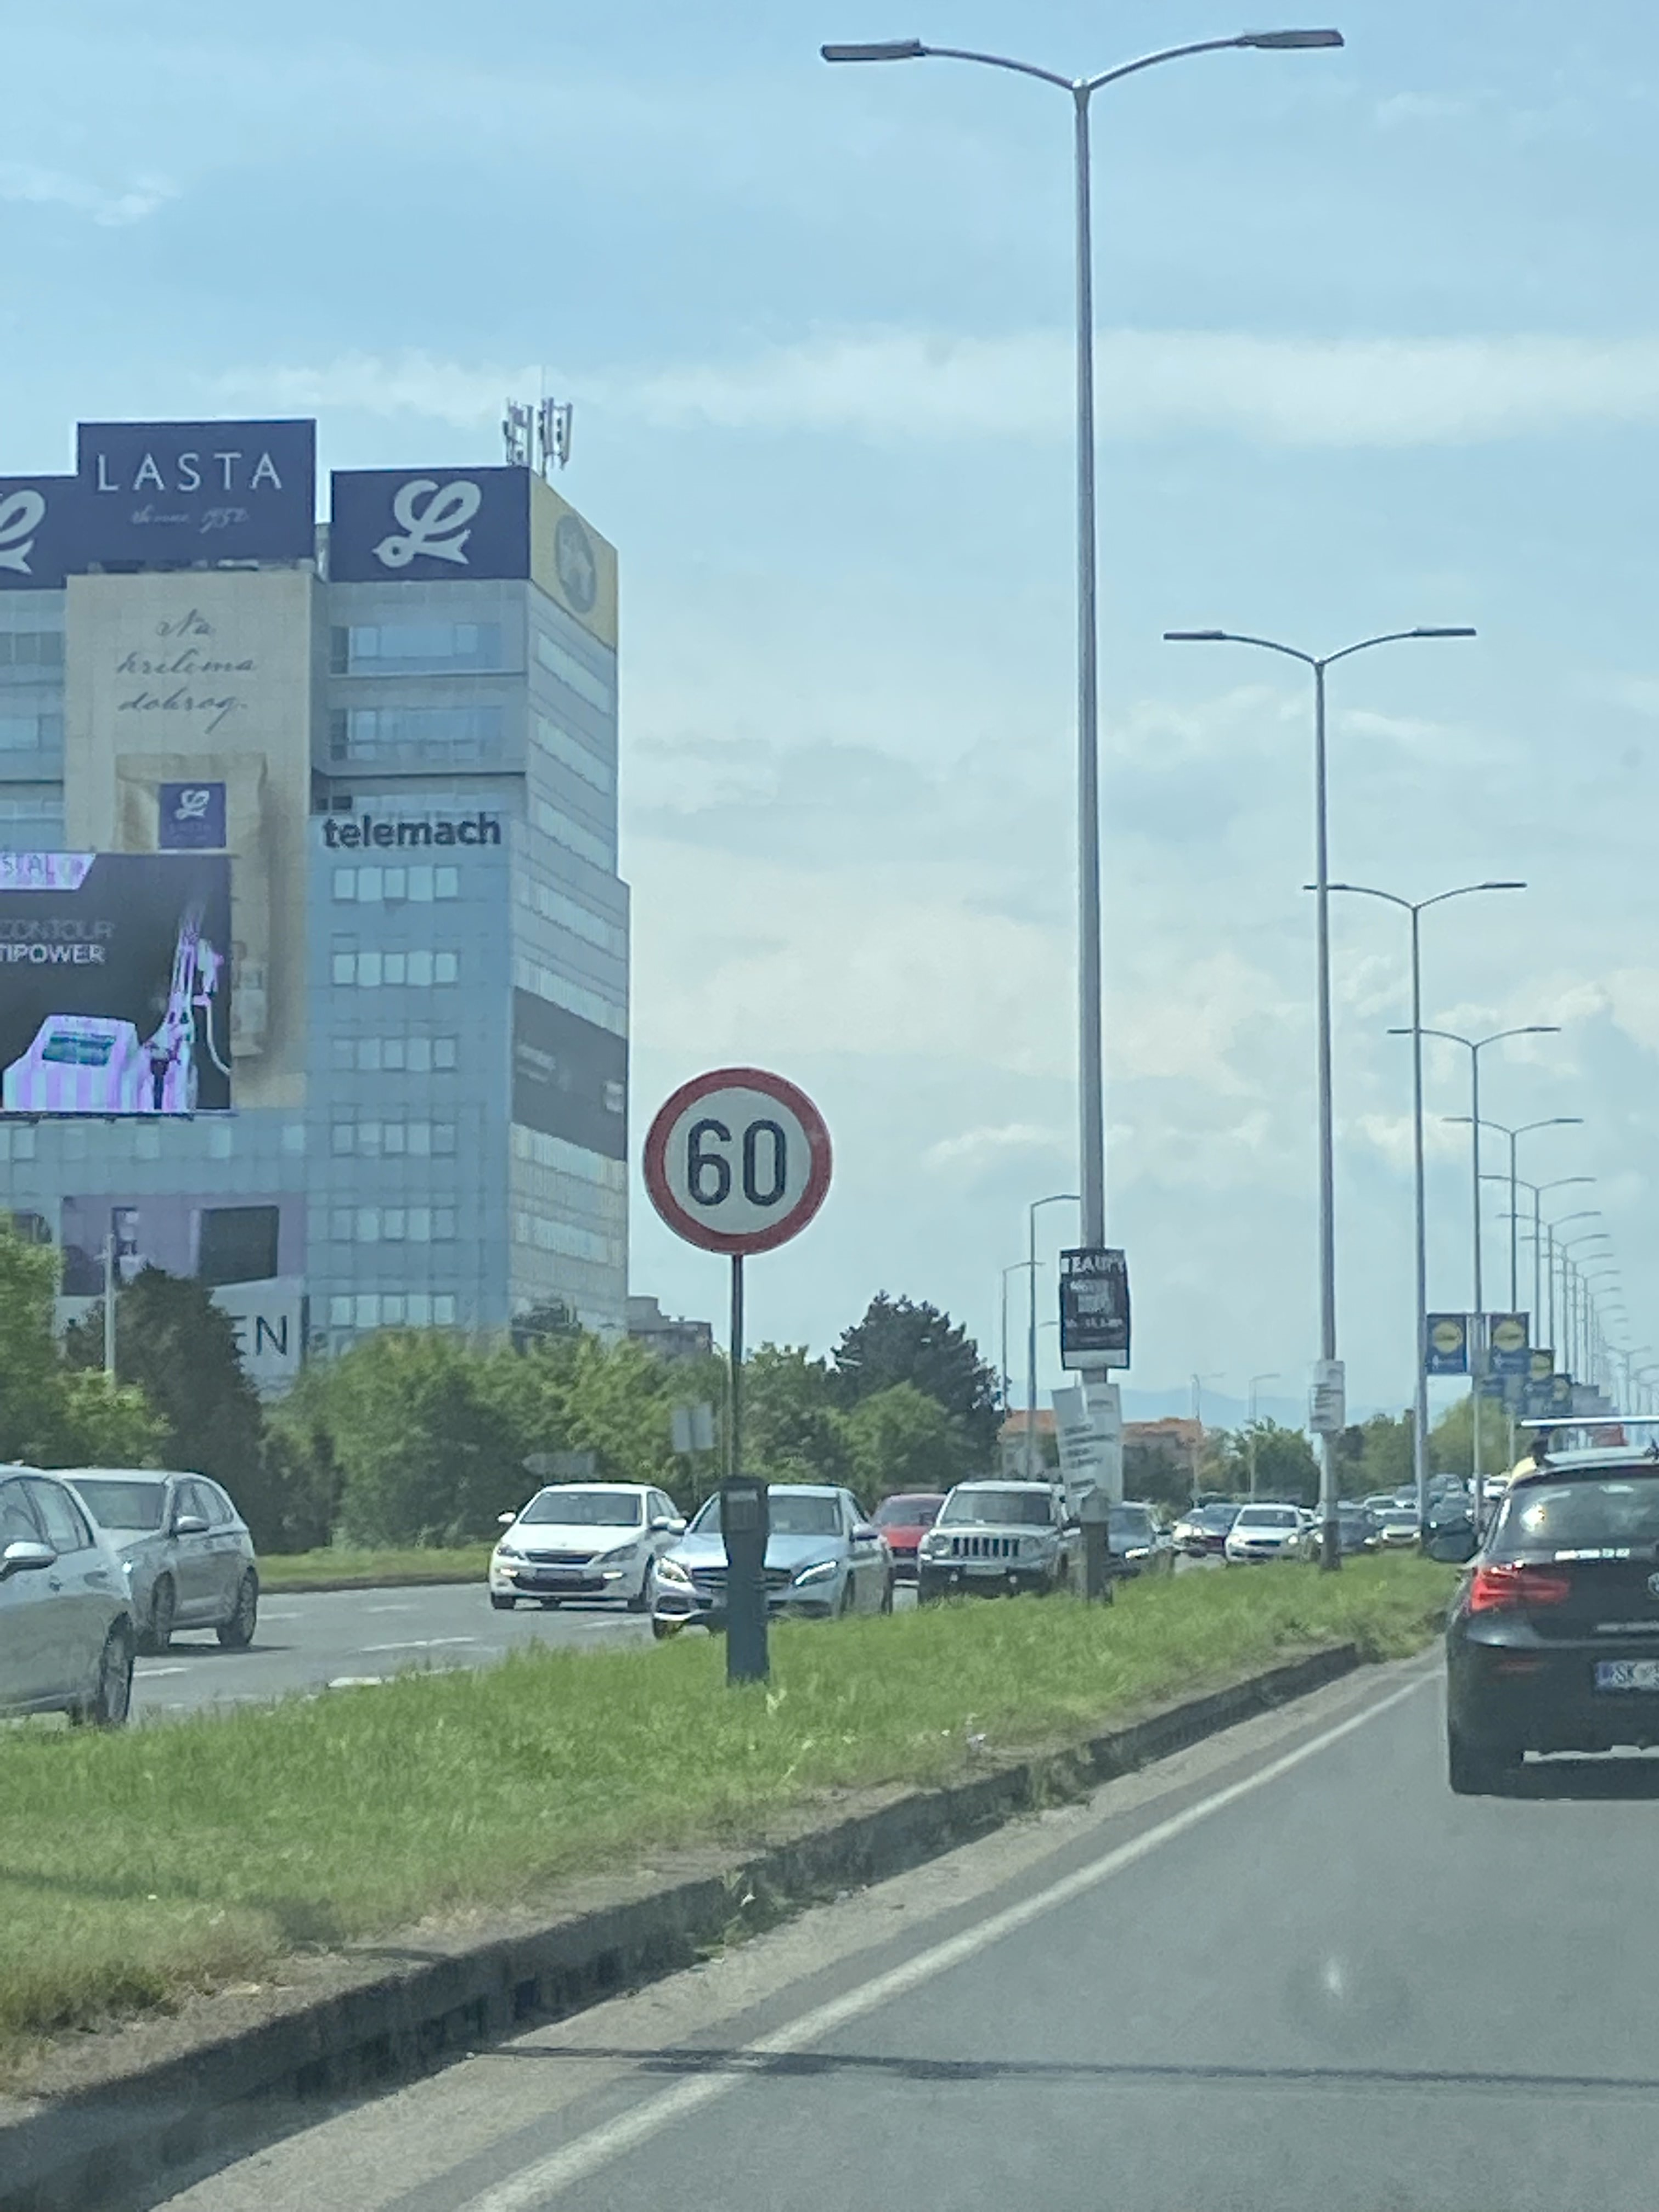Ograničenje brzine 60: (643, 1066, 835, 1254)
